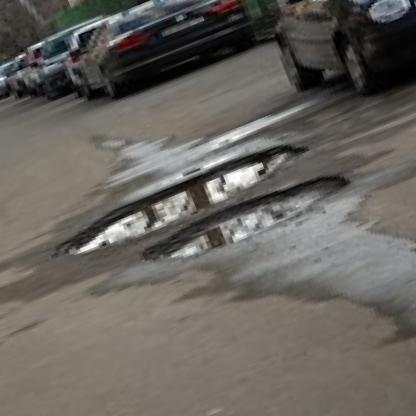pothole: (45, 127, 319, 270), (134, 157, 363, 281)
